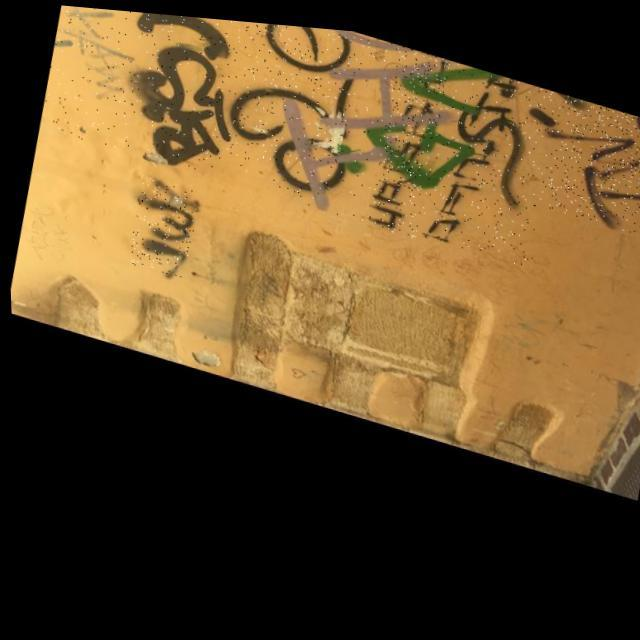-: (262, 18, 462, 235), (34, 2, 255, 178), (330, 24, 528, 213), (418, 51, 566, 261), (216, 15, 371, 196), (499, 71, 640, 233), (360, 35, 456, 235), (43, 3, 149, 109), (122, 172, 201, 278)
